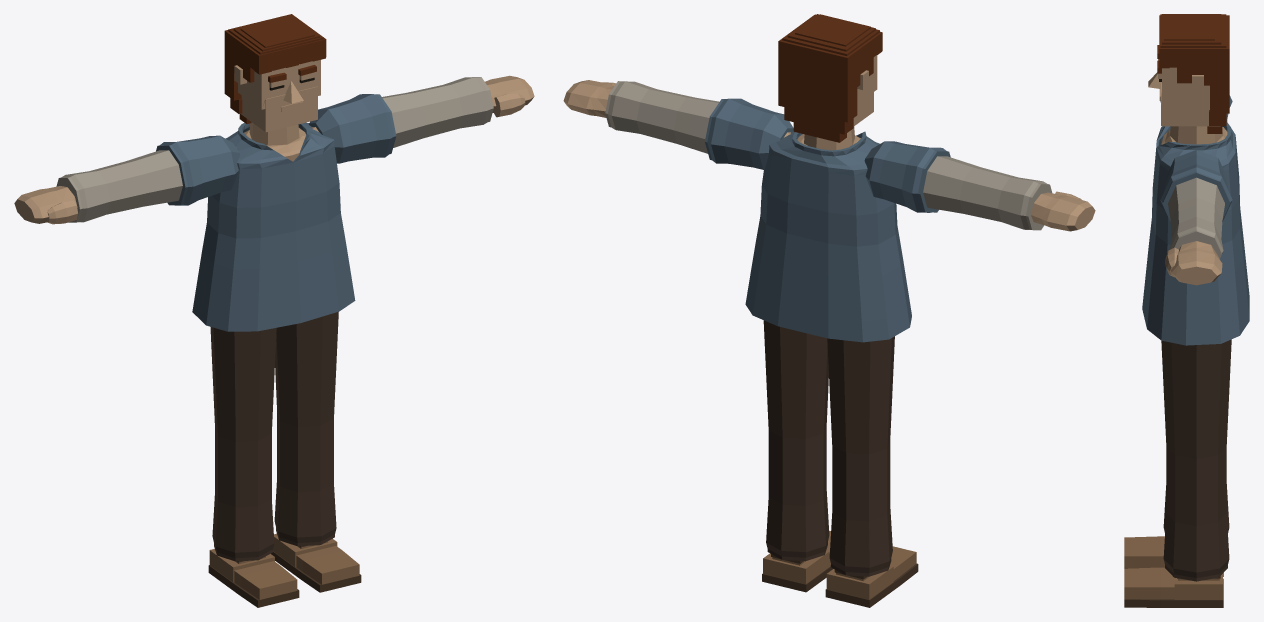
The model's file is suburban-resident-a9db9c.glb.
3 renders of one model, left to right at view 1: azimuth 30°, elevation 25°; view 2: azimuth 150°, elevation 25°; view 3: azimuth 270°, elevation 25°, orthographic. The views are drawn at different scales.
Parts seen in each view (by area): view 1: suburban-resident-a9db9c; view 2: suburban-resident-a9db9c; view 3: suburban-resident-a9db9c.
Part boxes in pixels (left/top/right/bottom): suburban-resident-a9db9c: left=14, top=14, right=534, bottom=607; suburban-resident-a9db9c: left=563, top=14, right=1095, bottom=607; suburban-resident-a9db9c: left=1124, top=14, right=1249, bottom=607.
Bounding box in the file's own units: 1.67 × 1.73 × 0.354.
